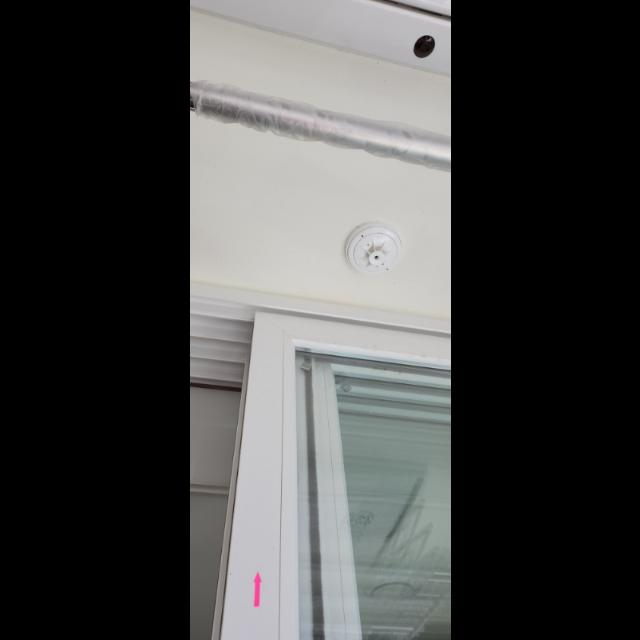Smoke-Detector: (343, 224, 402, 276)
